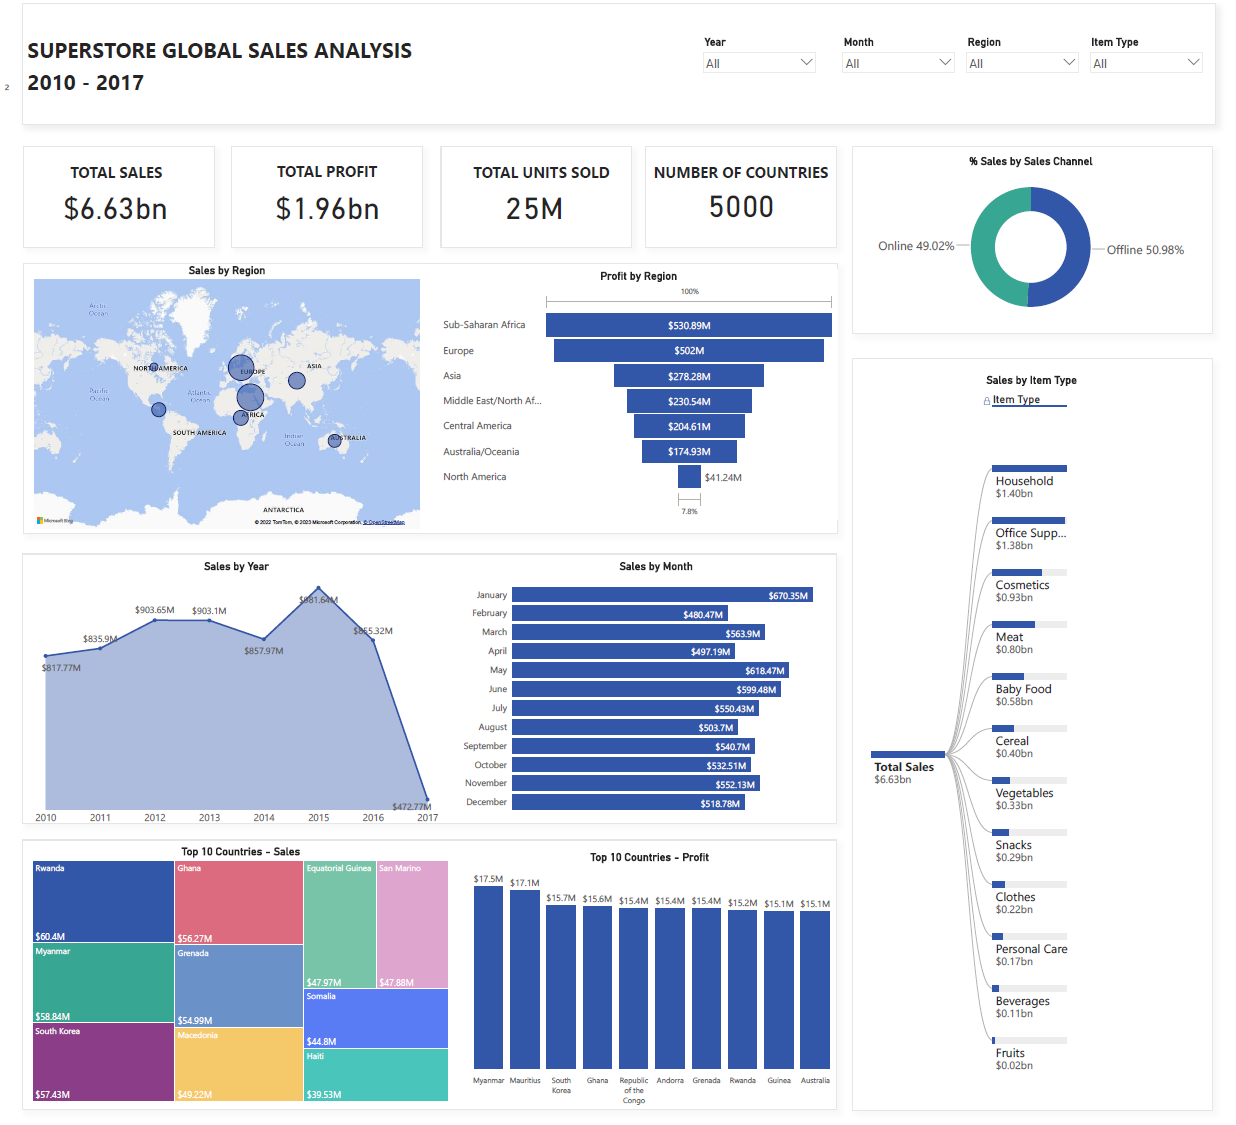

The dashboard page shown, as its layout file describes it:
{"tool":"powerbi","page":{"name":"Page 4","canvas":[2200,2000],"ordinal":3},"visuals":[{"type":"donutChart","title":"% Sales by Sales Channel","fields":{"Category":["Sales_Data.Sales_Channel"],"Y":["Sum(Sales_Data.Total Sales)"]},"box":[1526.1,269.7,612.4,306.2],"z":0},{"type":"shape","box":[38.9,0,2121,216],"z":1000},{"type":"textbox","box":[0,53.3,826.7,80],"z":2000},{"type":"textbox","box":[0,110,410,86.7],"z":3000},{"type":"slicer","fields":{"Values":["Sales_Data.Year"]},"box":[1239.4,53.5,221.1,77.8],"z":4000},{"type":"slicer","fields":{"Values":["Sales_Data.Order_Date.Variation.Date Hierarchy.Month"]},"box":[1486.7,53.3,220,80],"z":5000},{"type":"slicer","fields":{"Values":["Sales_Data.Region"]},"box":[1706.7,53.3,220,80],"z":6000},{"type":"slicer","fields":{"Values":["Sales_Data.Item_Type"]},"box":[1927.1,53.5,221.1,80.2],"z":7000},{"type":"shape","box":[41.3,255.2,340.2,179.8],"z":8000},{"type":"shape","box":[782.5,255.2,340.2,179.8],"z":9000},{"type":"shape","box":[410.7,255.2,340.2,179.8],"z":10000},{"type":"shape","box":[1147,255.2,340.2,179.8],"z":11000},{"type":"textbox","box":[55.9,277,308.6,68],"z":12000},{"type":"card","fields":{"Values":["Sum(Sales_Data.Total Sales)"]},"box":[70.5,311.1,269.7,94.8],"z":13000},{"type":"textbox","box":[420.4,274.6,323.2,70.5],"z":14000},{"type":"card","fields":{"Values":["Sum(Sales_Data.Total profit)"]},"box":[461.7,286.8,240.6,143.4],"z":15000},{"type":"textbox","box":[801.9,277,320.8,75.3],"z":16000},{"type":"card","fields":{"Values":["Sum(Sales_Data.Units_Sold)"]},"box":[826.2,301.3,247.9,114.2],"z":17000},{"type":"textbox","box":[1147,277,340.2,75.3],"z":18000},{"type":"card","fields":{"Values":["CountNonNull(Sales_Data.Country)"]},"box":[1183.5,303.8,267.3,102.1],"z":19000},{"type":"shape","box":[1516.2,254.9,639.3,332.6],"z":20000},{"type":"shape","box":[1516.4,631.8,639.1,1336.6],"z":21000},{"type":"decompositionTreeVisual","title":"Sales by Item Type ","fields":{"Analyze":["Sum(Sales_Data.Total Sales)"],"ExplainBy":["Sales_Data.Item_Type"]},"box":[1518.8,658.6,629.4,1343.9],"z":22000},{"type":"shape","box":[41.3,461.7,1448.4,481.2],"z":23000},{"type":"shape","box":[38.9,979.3,1448.4,480],"z":24000},{"type":"shape","box":[38.9,1487.2,1448.4,481.2],"z":25000},{"type":"map","title":"Sales by Region","fields":{"Category":["Sales_Data.Region"],"Size":["Sum(Sales_Data.Total Sales)"]},"box":[55.9,464.2,695,476.3],"z":26000},{"type":"funnel","title":"Profit by Region","fields":{"Category":["Sales_Data.Region"],"Y":["Sum(Sales_Data.Total profit)"]},"box":[782.5,473.9,704.7,444.7],"z":27000},{"type":"clusteredBarChart","title":"Sales by Month","fields":{"Category":["Sales_Data.Order_Date.Variation.Date Hierarchy.Month"],"Y":["Sum(Sales_Data.Total Sales)"]},"box":[803.5,1490.3,755.9,479.5],"z":28000},{"type":"areaChart","title":" Sales by Year","fields":{"Category":["Sales_Data.Year"],"Y":["Sum(Sales_Data.Total Sales)"]},"box":[38.9,1490.3,743,479.5],"z":29000},{"type":"clusteredColumnChart","title":"Top 10 Countries - Profit","fields":{"Category":["Sales_Data.Country"],"Y":["Sum(Sales_Data.Total profit)"]},"box":[764.9,981.1,727,475.7],"z":30000},{"type":"treemap","title":"Top 10 Countries - Sales","fields":{"Group":["Sales_Data.Country"],"Values":["Sum(Sales_Data.Total Sales)"]},"box":[43.2,980.6,725.7,479.5],"z":31000}]}

Visuals, with their boxes in screenshot pixels (x1, y1, x2, y2), scaled from the page's 2200x2000 canvas onto the 1236x1125 screenshot:
"% Sales by Sales Channel" donutChart: {"x1": 857, "y1": 152, "x2": 1201, "y2": 324}
shape: {"x1": 22, "y1": 0, "x2": 1213, "y2": 122}
textbox: {"x1": 0, "y1": 30, "x2": 464, "y2": 75}
textbox: {"x1": 0, "y1": 62, "x2": 230, "y2": 111}
slicer - Sales_Data.Year: {"x1": 696, "y1": 30, "x2": 821, "y2": 74}
slicer - Sales_Data.Order_Date.Variation.Date Hierarchy.Month: {"x1": 835, "y1": 30, "x2": 959, "y2": 75}
slicer - Sales_Data.Region: {"x1": 959, "y1": 30, "x2": 1082, "y2": 75}
slicer - Sales_Data.Item_Type: {"x1": 1083, "y1": 30, "x2": 1207, "y2": 75}
shape: {"x1": 23, "y1": 144, "x2": 214, "y2": 245}
shape: {"x1": 440, "y1": 144, "x2": 631, "y2": 245}
shape: {"x1": 231, "y1": 144, "x2": 422, "y2": 245}
shape: {"x1": 644, "y1": 144, "x2": 836, "y2": 245}
textbox: {"x1": 31, "y1": 156, "x2": 205, "y2": 194}
card - Sum(Sales_Data.Total Sales): {"x1": 40, "y1": 175, "x2": 191, "y2": 228}
textbox: {"x1": 236, "y1": 154, "x2": 418, "y2": 194}
card - Sum(Sales_Data.Total profit): {"x1": 259, "y1": 161, "x2": 395, "y2": 242}
textbox: {"x1": 451, "y1": 156, "x2": 631, "y2": 198}
card - Sum(Sales_Data.Units_Sold): {"x1": 464, "y1": 169, "x2": 603, "y2": 234}
textbox: {"x1": 644, "y1": 156, "x2": 836, "y2": 198}
card - CountNonNull(Sales_Data.Country): {"x1": 665, "y1": 171, "x2": 815, "y2": 228}
shape: {"x1": 852, "y1": 143, "x2": 1211, "y2": 330}
shape: {"x1": 852, "y1": 355, "x2": 1211, "y2": 1107}
"Sales by Item Type " decompositionTreeVisual: {"x1": 853, "y1": 370, "x2": 1207, "y2": 1124}
shape: {"x1": 23, "y1": 260, "x2": 837, "y2": 530}
shape: {"x1": 22, "y1": 551, "x2": 836, "y2": 821}
shape: {"x1": 22, "y1": 837, "x2": 836, "y2": 1107}
"Sales by Region" map: {"x1": 31, "y1": 261, "x2": 422, "y2": 529}
"Profit by Region" funnel: {"x1": 440, "y1": 267, "x2": 836, "y2": 517}
"Sales by Month" clusteredBarChart: {"x1": 451, "y1": 838, "x2": 876, "y2": 1108}
" Sales by Year" areaChart: {"x1": 22, "y1": 838, "x2": 439, "y2": 1108}
"Top 10 Countries - Profit" clusteredColumnChart: {"x1": 430, "y1": 552, "x2": 838, "y2": 819}
"Top 10 Countries - Sales" treemap: {"x1": 24, "y1": 552, "x2": 432, "y2": 821}
